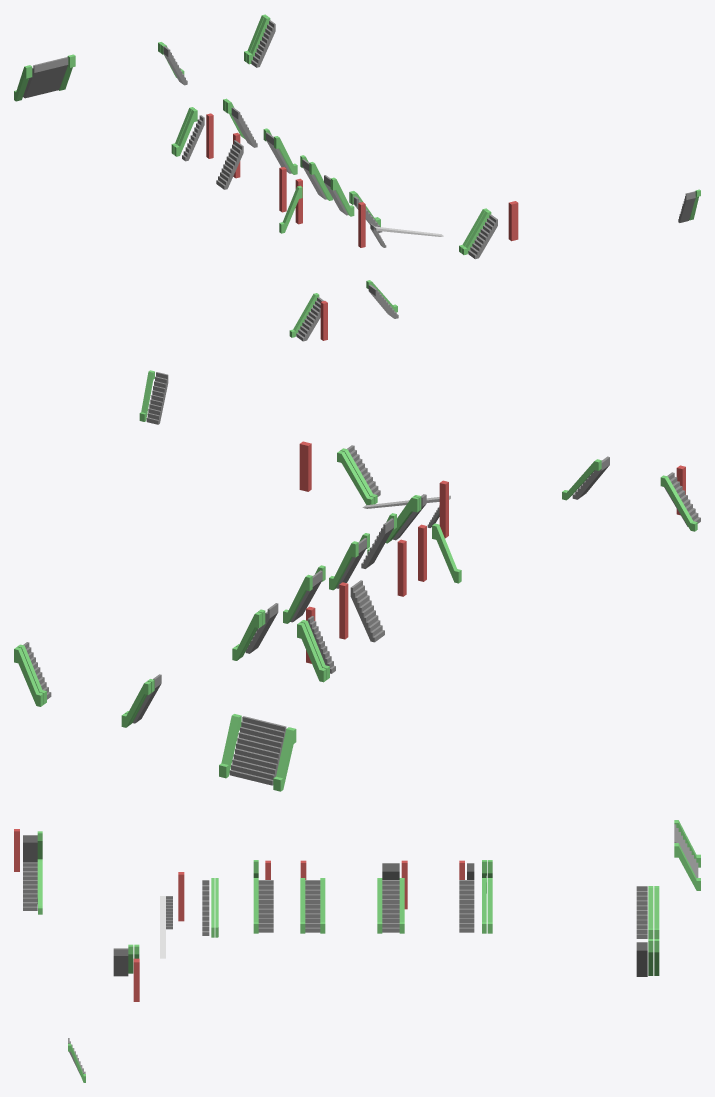
3 views of the same model, one above another, from view 1: azimuth 30°, elevation 25°; view 2: azimuth 150°, elevation 25°; view 3: azimuth 270°, elevation 25° (orthographic). The views are drawn at different scales.
Visible parts, largest first — view 1: 階段.037, 階段.009, 階段.031, 階段.016; view 2: 階段.037, 階段.009, 階段.039, エスカレーター.038, エスカレーター.039; view 3: 階段.010, 階段.011, 階段.013, 階段.014, 階段.017, 階段.026, 階段.031, 階段.007, 階段.016, 階段.027.
Part boxes in pixels (box(x1,y1,x2,y2)): 階段.037: box(23, 57, 68, 98); 階段.009: box(216, 140, 243, 189); 階段.031: box(468, 214, 497, 259); 階段.016: box(296, 297, 323, 341); 階段.037: box(229, 716, 286, 785); 階段.009: box(350, 580, 384, 642); 階段.039: box(146, 372, 168, 424); エスカレーター.038: box(273, 727, 296, 791); エスカレーター.039: box(219, 714, 241, 778); 階段.010: box(382, 880, 399, 932); 階段.011: box(305, 880, 320, 932); 階段.013: box(258, 880, 273, 932); 階段.014: box(459, 880, 474, 932); 階段.017: box(23, 862, 37, 910); 階段.026: box(636, 886, 647, 938); 階段.031: box(113, 948, 128, 976); 階段.007: box(202, 880, 209, 935); 階段.016: box(23, 835, 37, 862); 階段.027: box(636, 942, 647, 976).
Bounding box in the file's own units: 18158 × 2175 × 23515.
